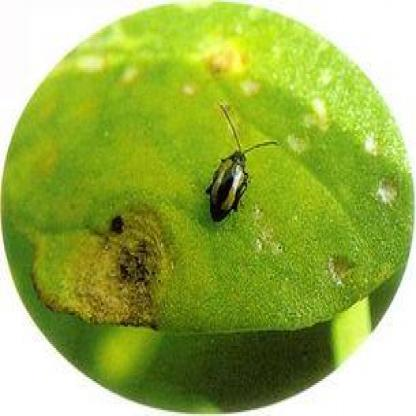beetle: (204, 103, 278, 224)
